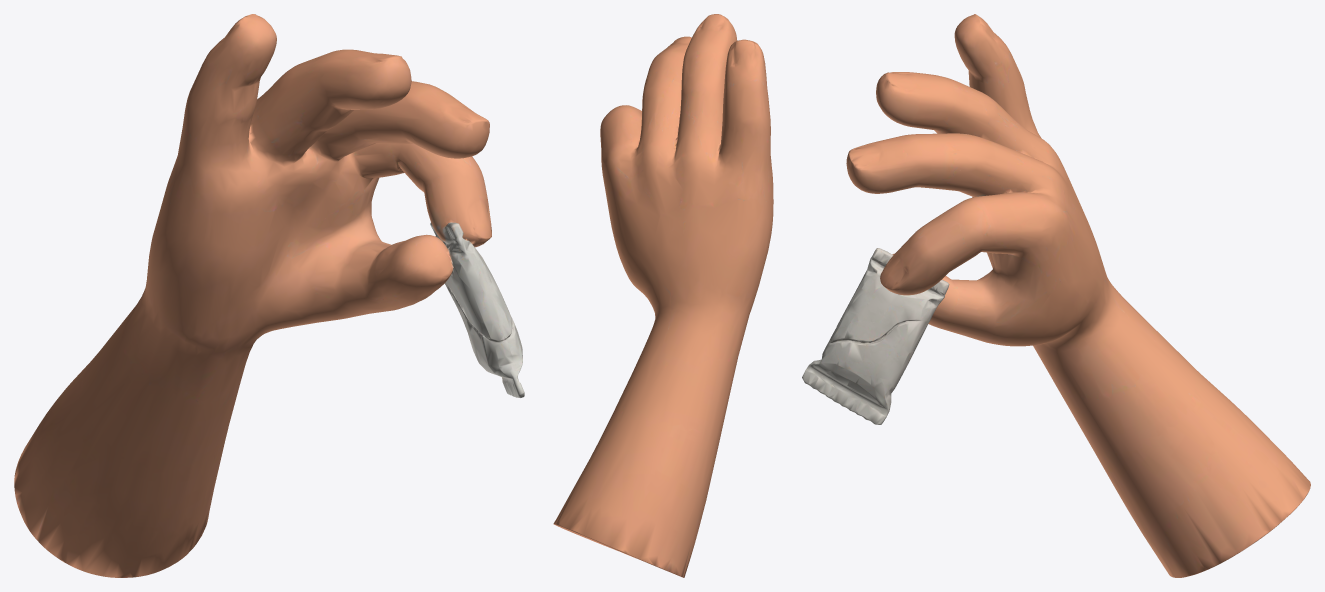
Rendered from pouch.glb.
3 renders of one model, left to right at view 1: azimuth 30°, elevation 25°; view 2: azimuth 150°, elevation 25°; view 3: azimuth 270°, elevation 25°, orthographic. The views are drawn at different scales.
Size of the model in its own units: 0.8351 by 1.9 by 1.61.
Materials: 1 (1 with a texture image).
